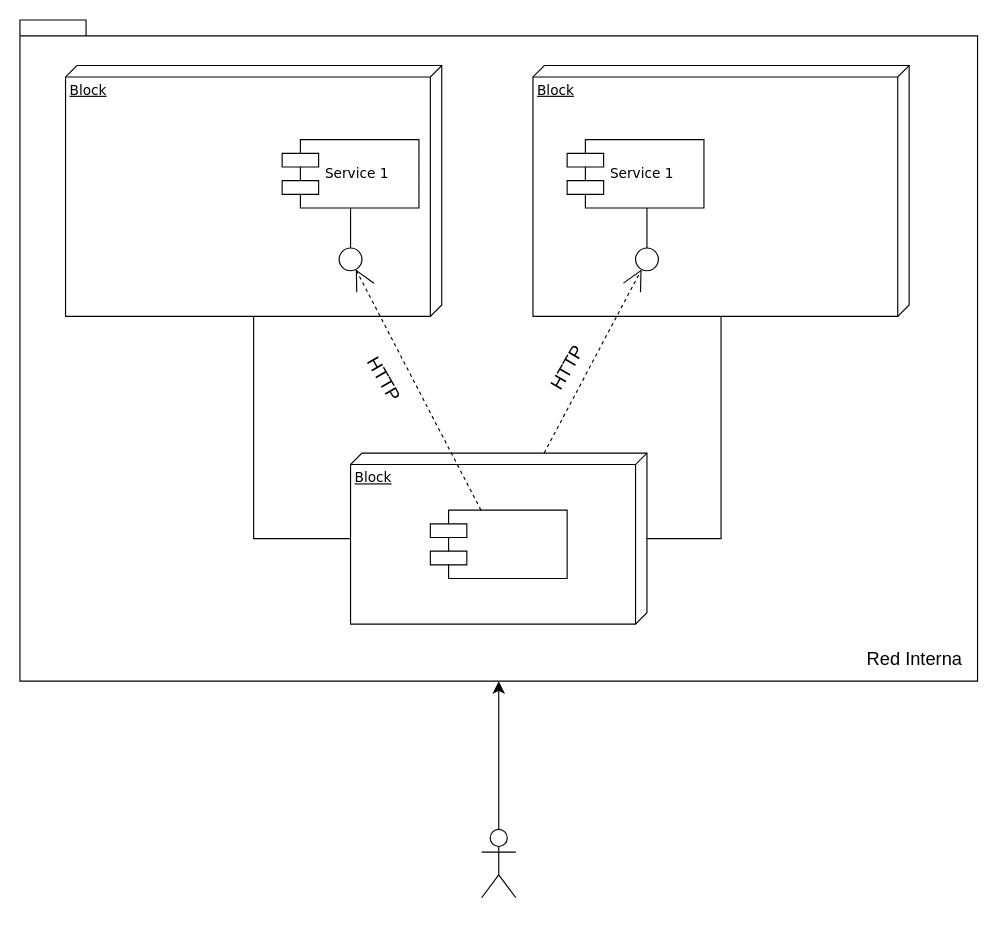
Some shapes in this 998 by 942 pixel diagram are drawn without their labels. Each missing label, with the centre of its shape:
"Actor" goes at [498,863].
"API Gateway" goes at [498,544].
